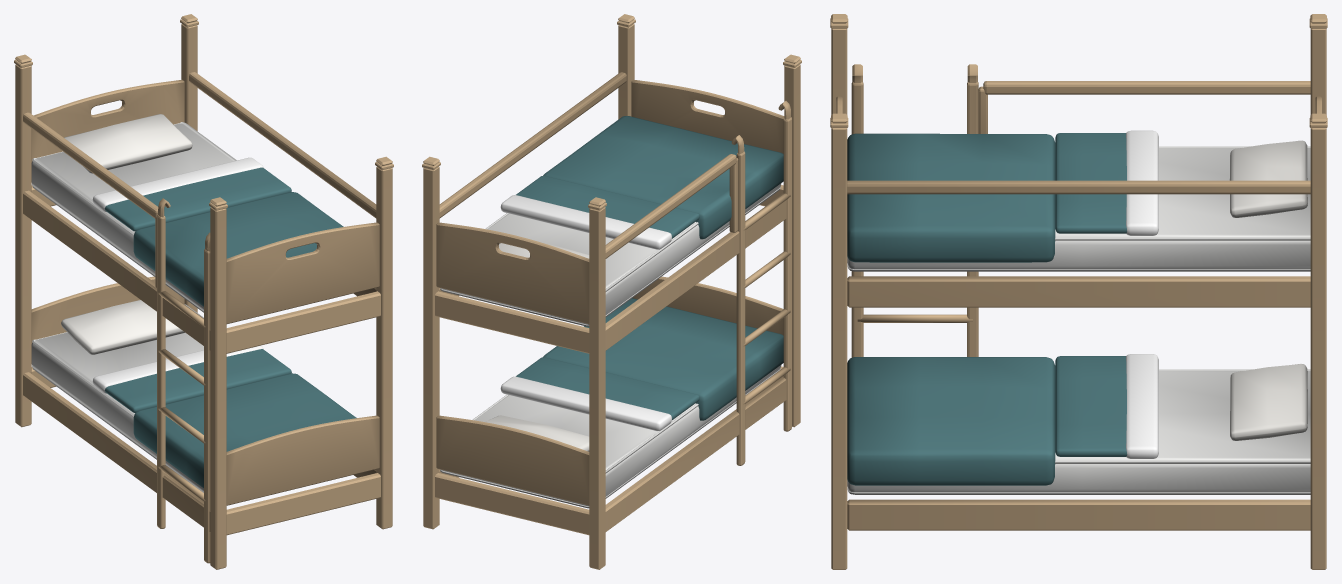
Rendered from bedBunk.glb.
3 renders of one model, left to right at view 1: azimuth 30°, elevation 25°; view 2: azimuth 150°, elevation 25°; view 3: azimuth 270°, elevation 25°, orthographic. The views are drawn at different scales.
Visible parts, largest first — view 1: bedBunk, duvet_flap_upper, duvet_flap; view 2: bedBunk, duvet_flap, duvet_flap_upper; view 3: bedBunk, duvet_flap, duvet_flap_upper.
Boxes of the visible parts, x1,y1,x2,y2 form: bedBunk: (14,14,393,569); duvet_flap_upper: (92,157,291,231); duvet_flap: (92,345,291,412); bedBunk: (422,14,801,569); duvet_flap: (500,357,699,431); duvet_flap_upper: (500,176,699,249); bedBunk: (830,14,1327,569); duvet_flap: (1055,354,1158,458); duvet_flap_upper: (1055,130,1158,235).
Bounding box in the file's own units: 0.968 × 1.9 × 1.9.
